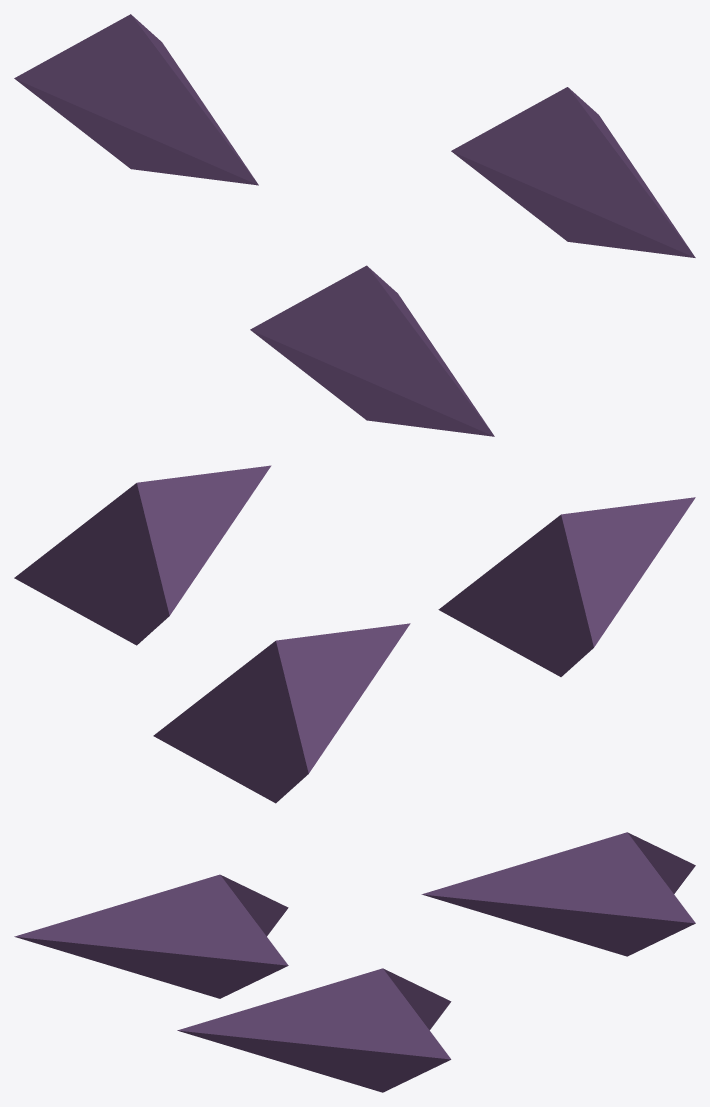
The model's file is BlackBronzeArrowheadStack3.glb.
The picture shows the model from 3 angles, top to bottom: view 1: azimuth 30°, elevation 25°; view 2: azimuth 150°, elevation 25°; view 3: azimuth 270°, elevation 25°; orthographic projection. The views are drawn at different scales.
Visible parts, largest first — view 1: BlackBronzeArrowheadStack3; view 2: BlackBronzeArrowheadStack3; view 3: BlackBronzeArrowheadStack3.
Boxes of the visible parts, x1,y1,x2,y2 form: BlackBronzeArrowheadStack3: [14, 14, 695, 436]; BlackBronzeArrowheadStack3: [14, 465, 695, 803]; BlackBronzeArrowheadStack3: [14, 832, 695, 1092].
Size of the model in its own units: 0.1538 by 0.0706 by 0.2511.
